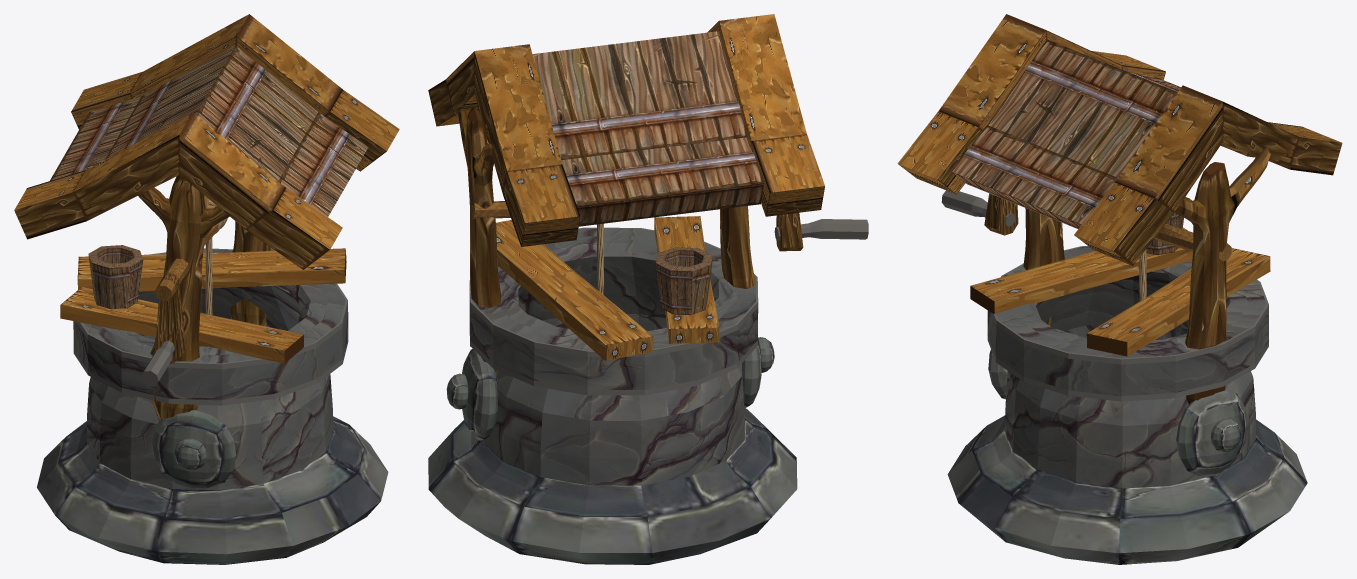
The model's file is well.glb.
3 renders of one model, left to right at view 1: azimuth 30°, elevation 25°; view 2: azimuth 150°, elevation 25°; view 3: azimuth 270°, elevation 25°, orthographic. The views are drawn at different scales.
Parts seen in each view (by area): view 1: Cube_003; view 2: Cube_003; view 3: Cube_003.
Boxes of the visible parts, x1,y1,x2,y2 form: Cube_003: [14, 14, 399, 564]; Cube_003: [428, 14, 868, 564]; Cube_003: [897, 14, 1342, 564].
Size of the model in its own units: 3.92 by 4.37 by 3.91.
21 materials, 21 textured.
